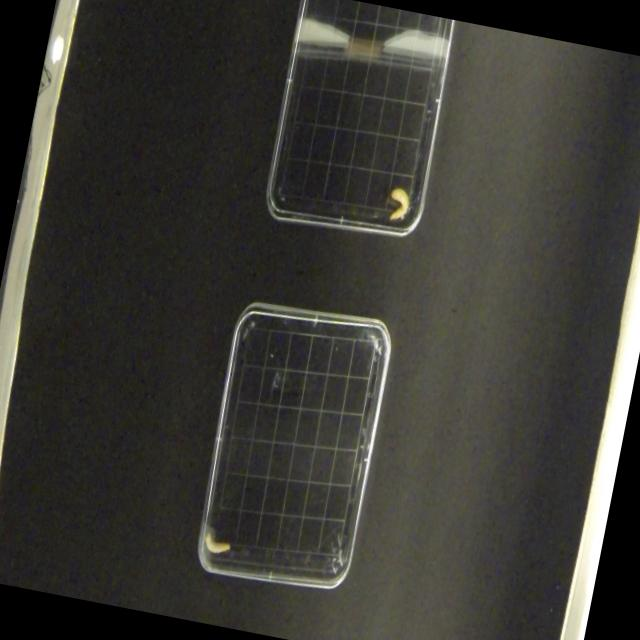larva: (382, 182, 414, 225), (200, 528, 233, 560)
